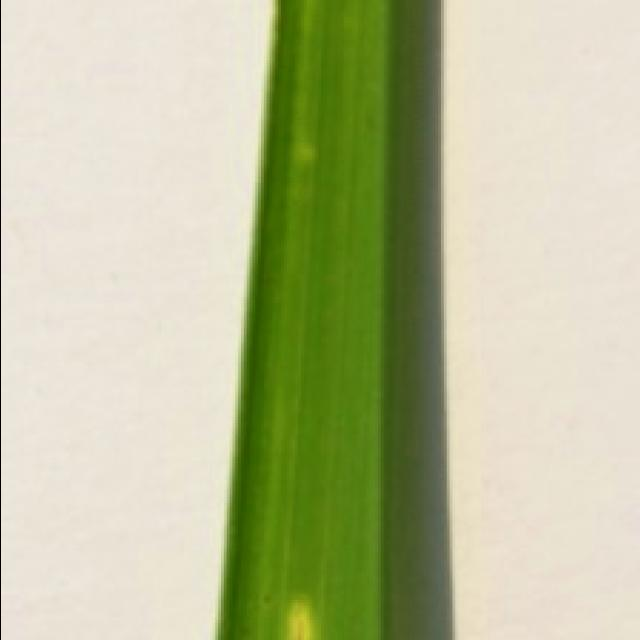Unhealthy: (275, 587, 317, 640)
